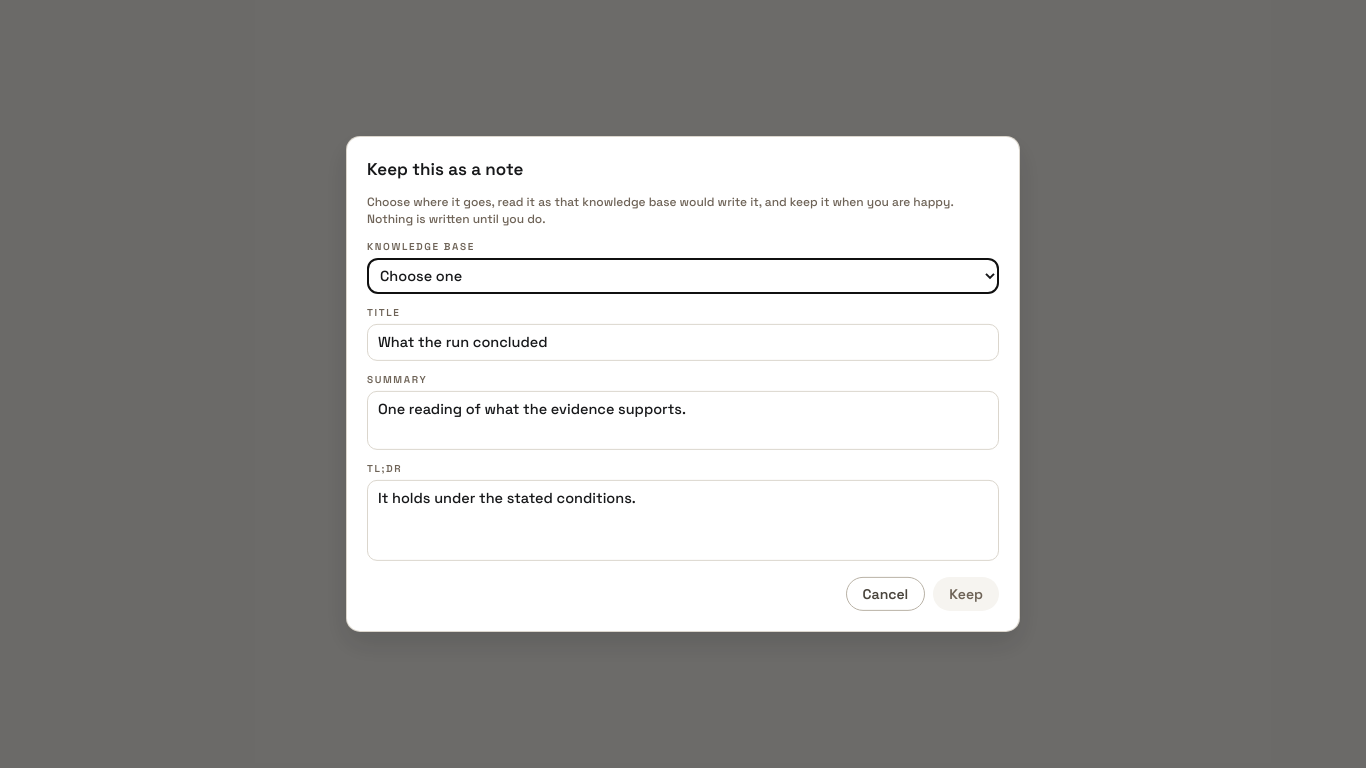
Test: SaveArtifactNote › will not keep a note the destination has not read, and offers the preview again
Select "notebook" in the dropdown labelled "Knowledge base" at (683, 276), box [367,258,999,294]
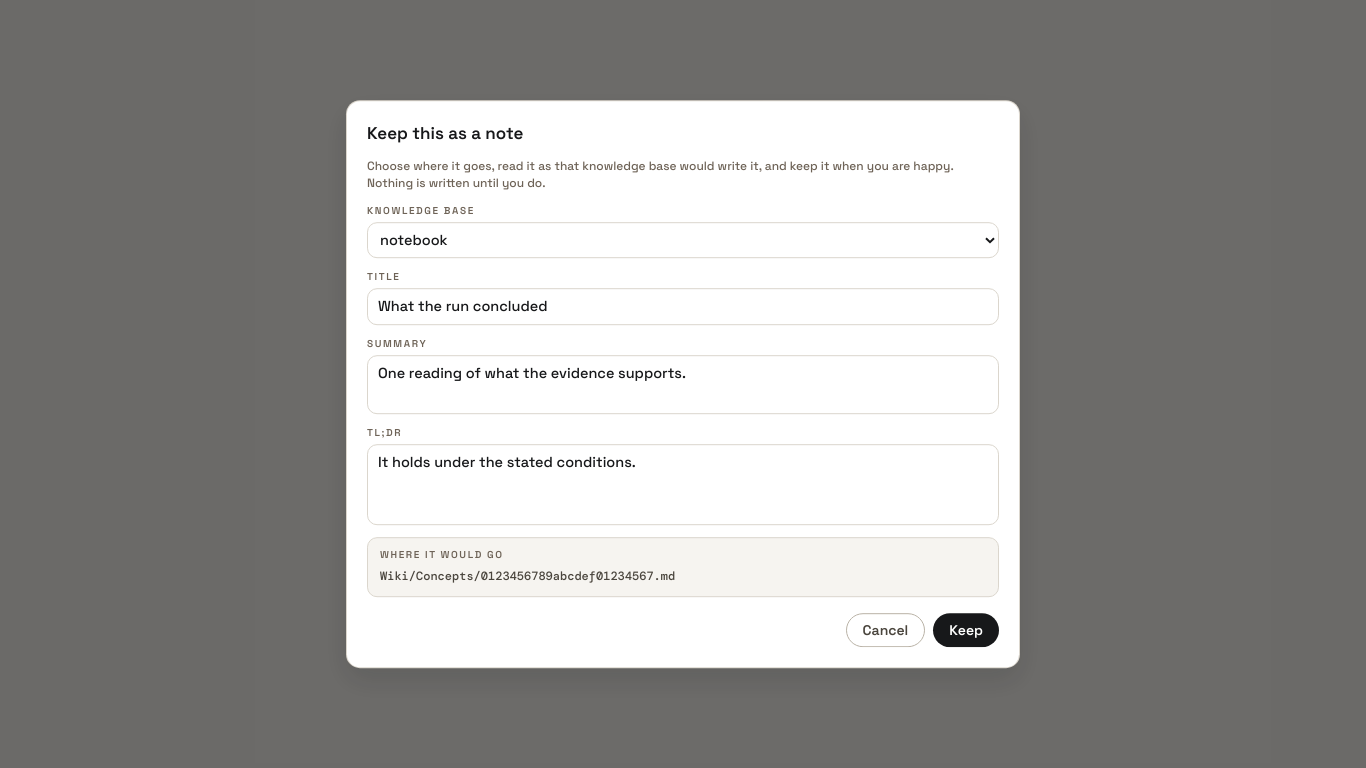
Expected: the text "Wiki/Concepts/0123456789abcdef01234567.md" is shown, [380,568,675,584]
Type "!" into the field labelled "Title" at (683, 307), box [367,289,999,325]
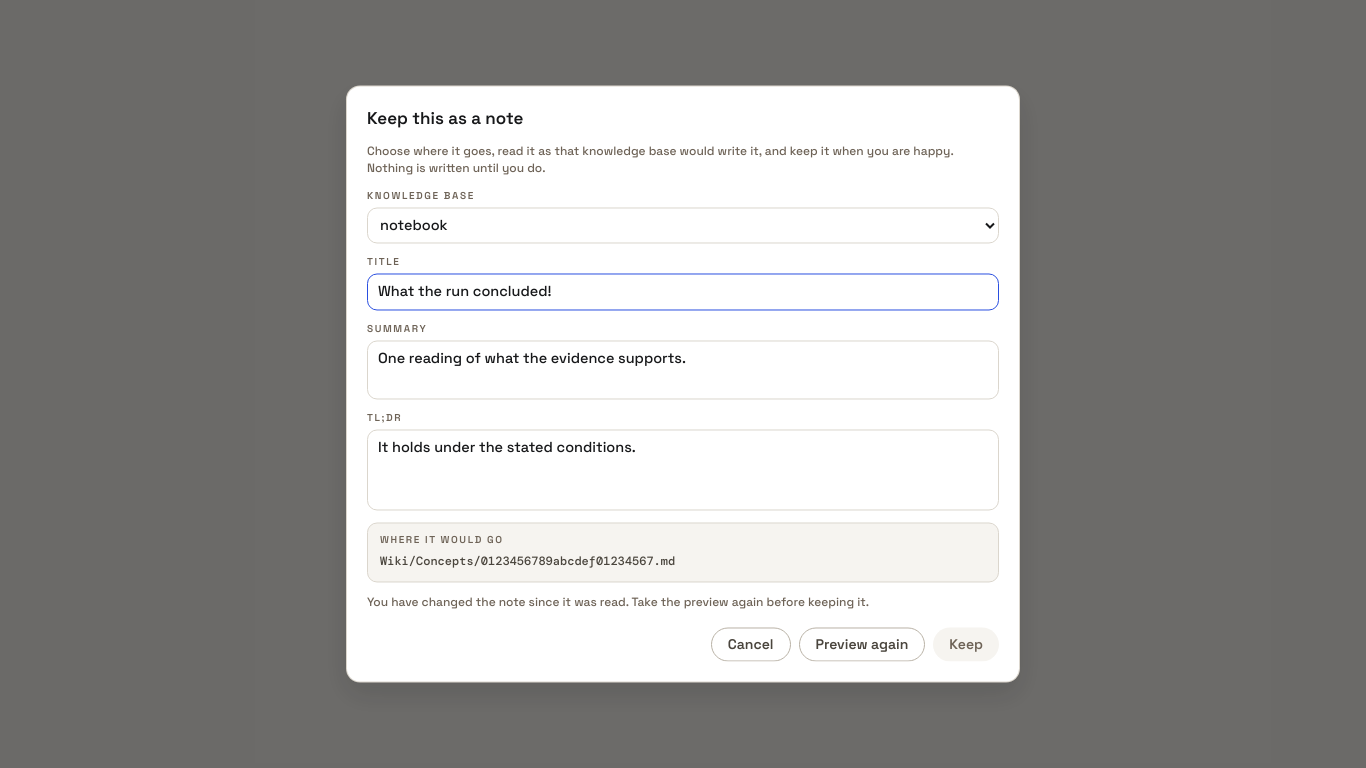
Expected: the button "Keep" is disabled, [933,628,999,662]
Expected: the message shows "changed the note since it was read", [367,594,869,610]
Click the button "Preview again" at (862, 644), box [798,628,925,662]
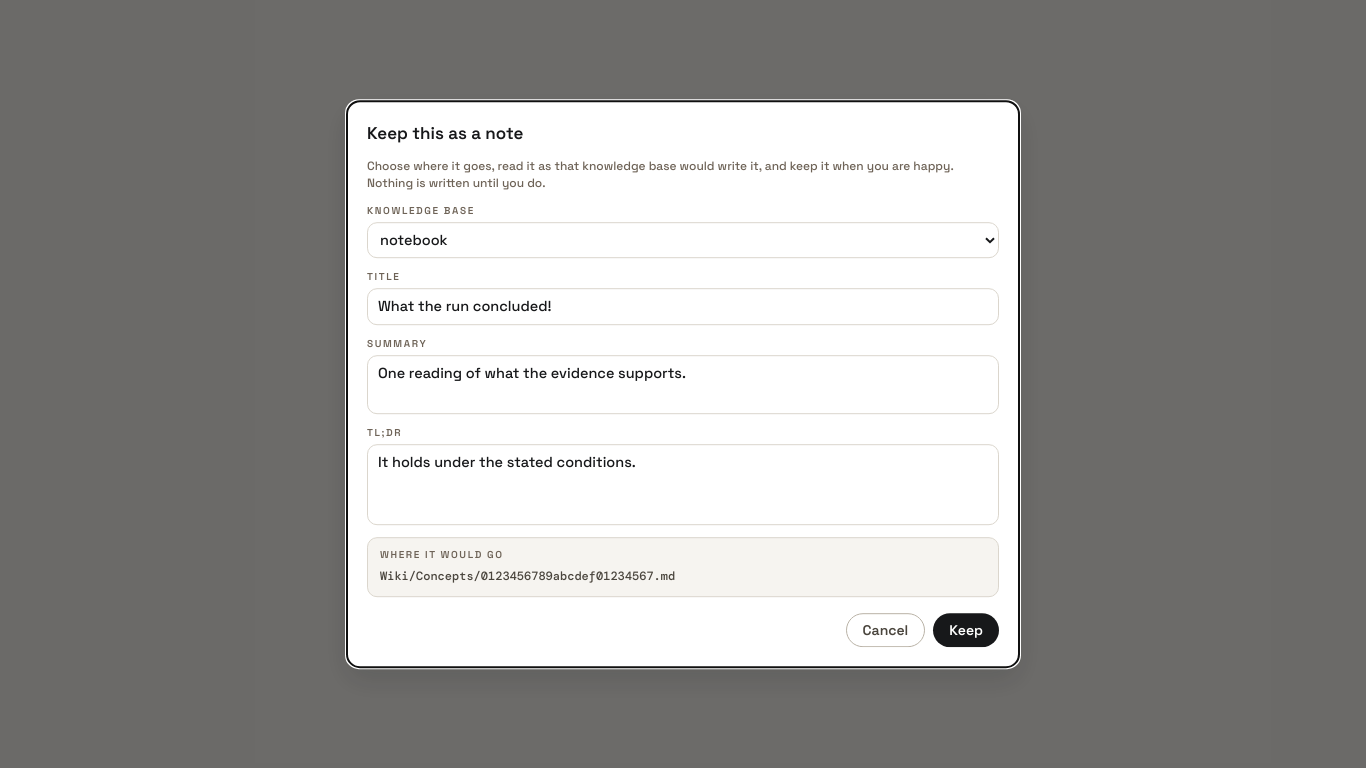
Expected: the button "Keep" is enabled, [933,613,999,647]
